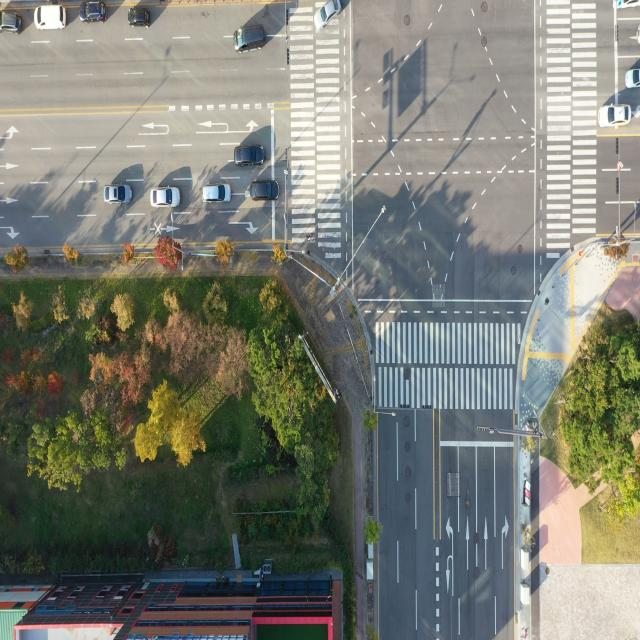car: (32, 3, 67, 30), (314, 0, 341, 34), (235, 26, 267, 54), (596, 102, 632, 125), (76, 0, 106, 26), (125, 5, 152, 32), (234, 145, 264, 168), (152, 186, 180, 208), (250, 180, 278, 201), (203, 183, 231, 204), (0, 9, 22, 35), (104, 184, 130, 205), (624, 69, 640, 86)
